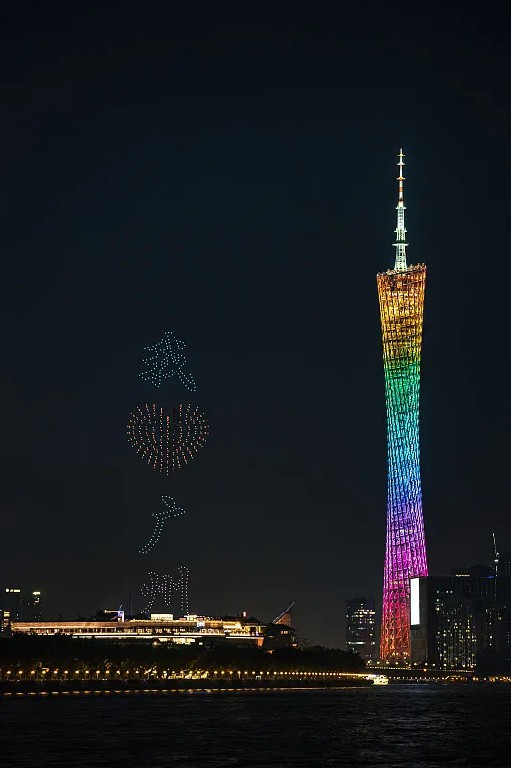Canton: (373, 146, 429, 669)
